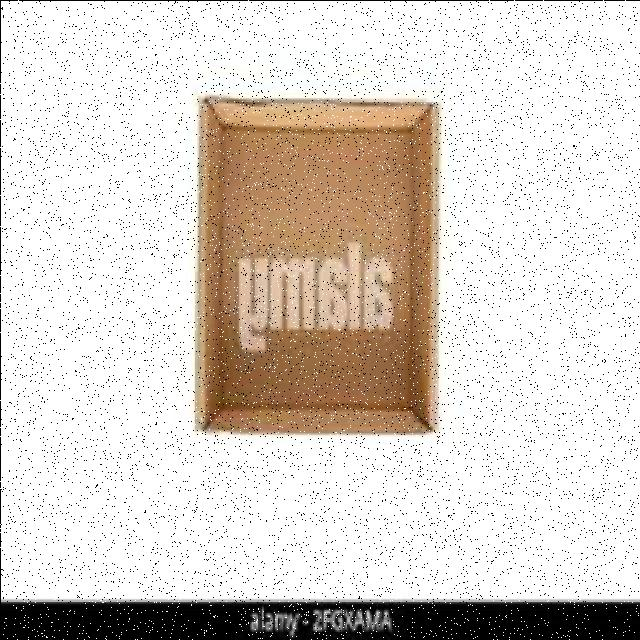defect: (188, 92, 448, 436)
